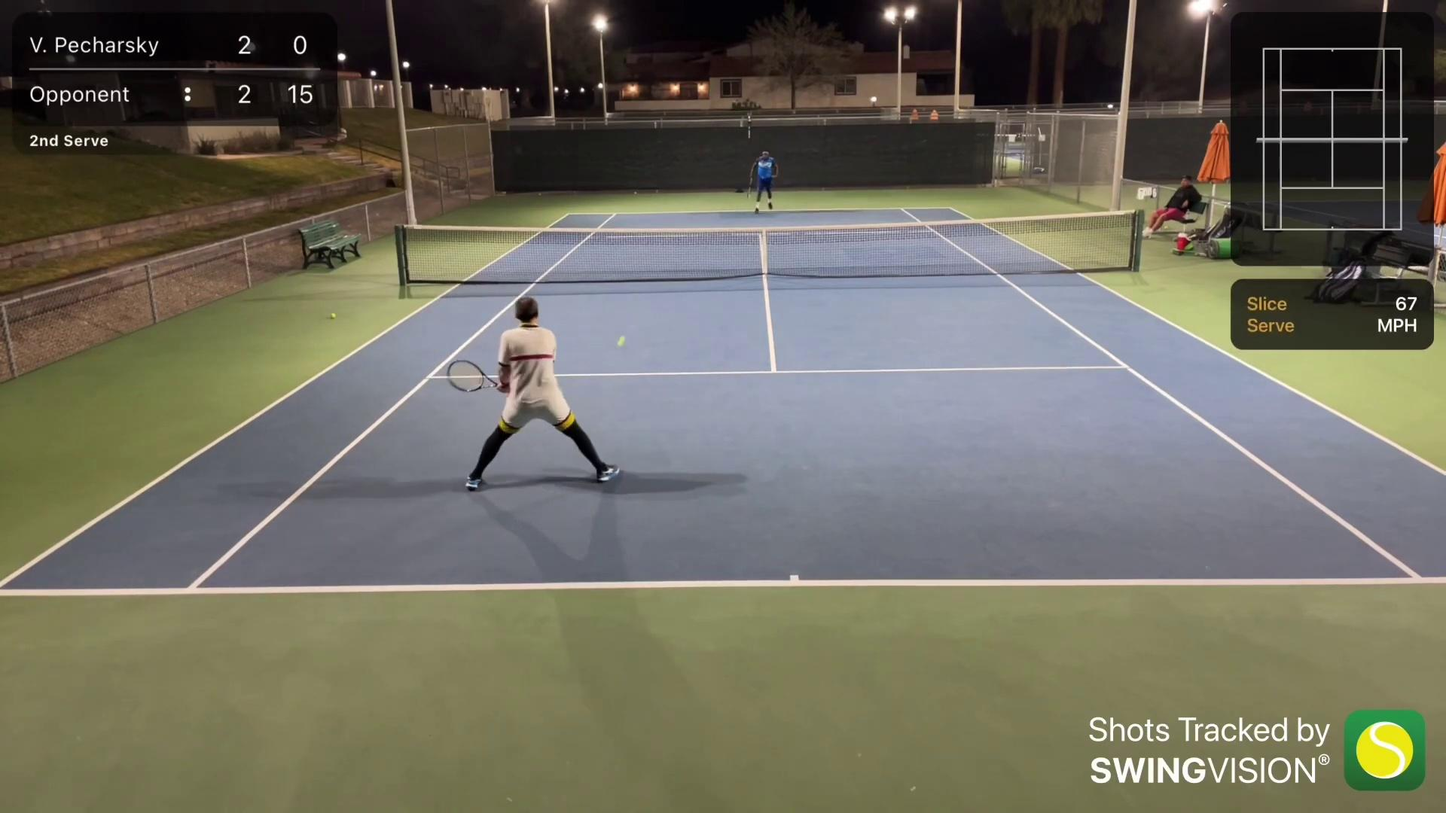ball: (615, 335, 628, 348), (327, 310, 338, 319)
